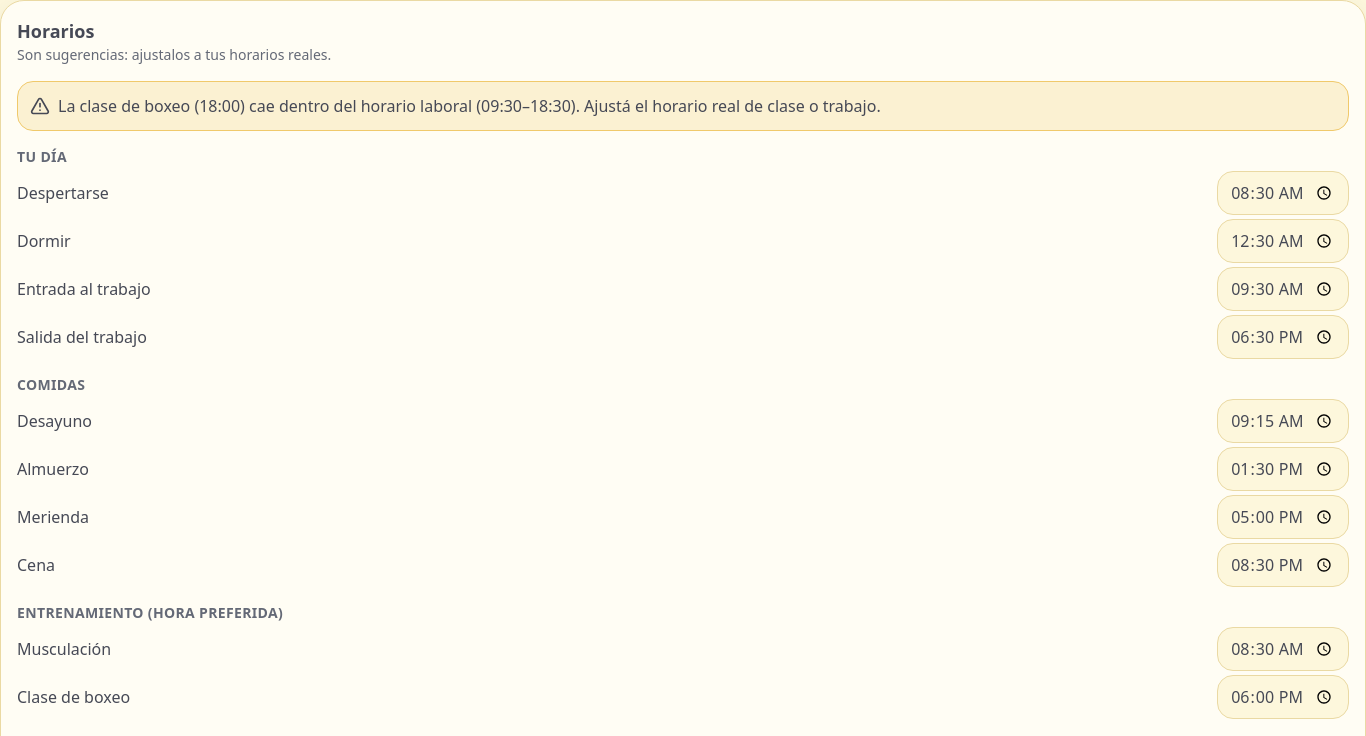
Test: seed hours show the boxing conflict; leaving work at 17:30 clears it and saves
expect the message shows "La clase de boxeo (18:00) cae dentro del horario laboral (09:30–18:30).": met, box [58,95,881,117]
Replace the text in the time field labelled "Salida del trabajo" with "17:30" at (1283, 337), box [1217,315,1349,359]
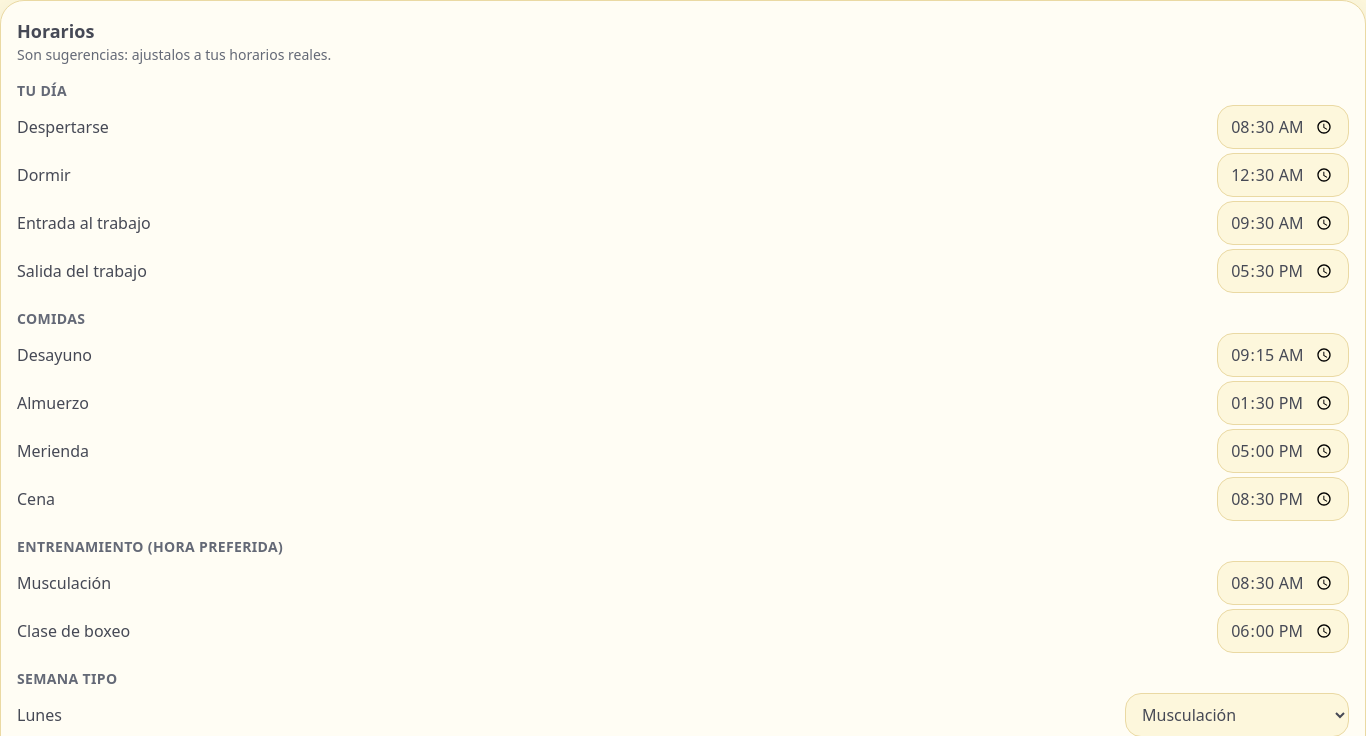
expect the message is gone: met
